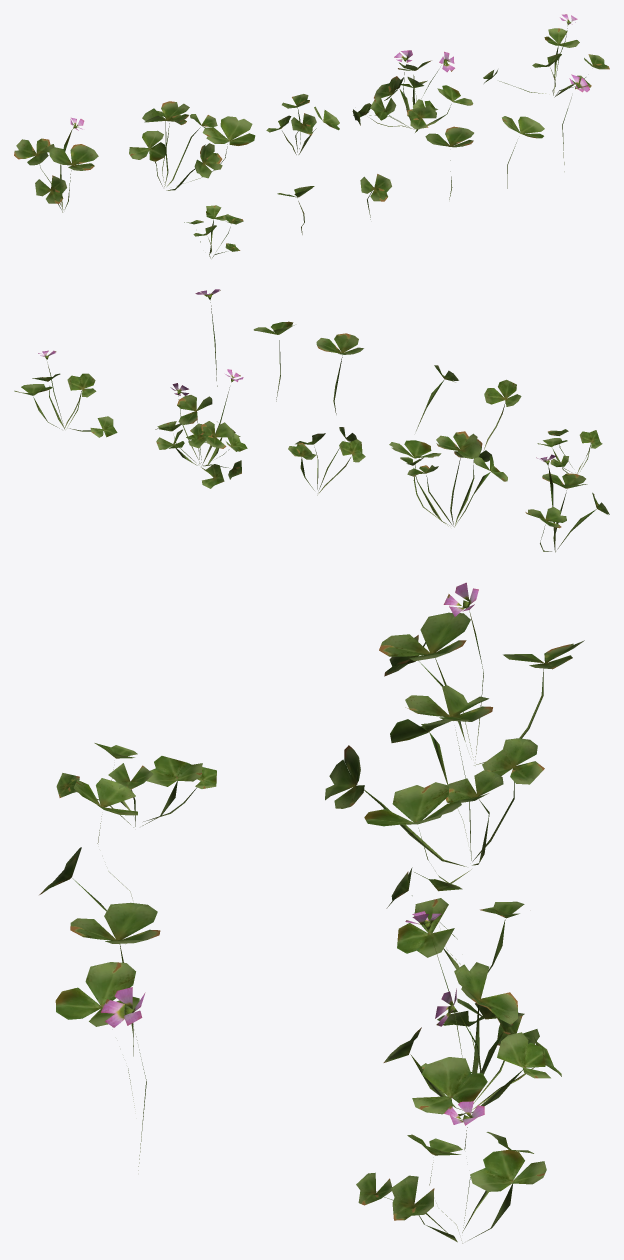
Rendered from shrub.glb.
The picture shows the model from 3 angles, top to bottom: view 1: azimuth 30°, elevation 25°; view 2: azimuth 150°, elevation 25°; view 3: azimuth 270°, elevation 25°; orthographic projection. The views are drawn at different scales.
Visible parts, largest first — view 1: shrub_sorrel_01_k; view 2: shrub_sorrel_01_k; view 3: shrub_sorrel_01_k.
Boxes of the visible parts, x1,y1,x2,y2 form: shrub_sorrel_01_k: (14,14,609,258); shrub_sorrel_01_k: (14,289,609,552); shrub_sorrel_01_k: (39,582,584,1243).
Bounding box in the file's own units: 0.352 × 0.058 × 0.1464.
Materials: 1 (1 with a texture image).
